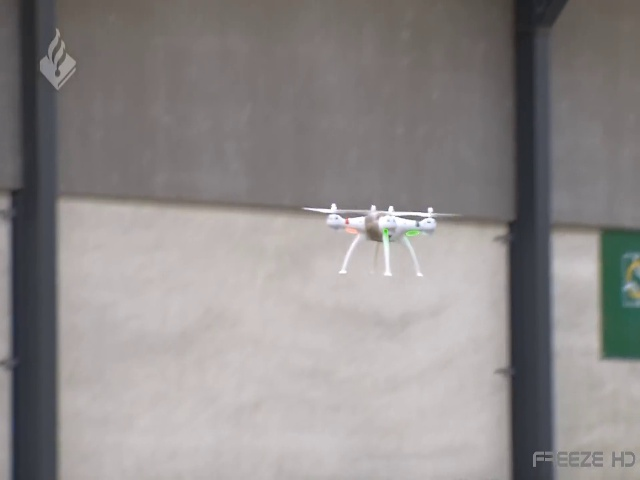drone: (296, 196, 457, 284)
